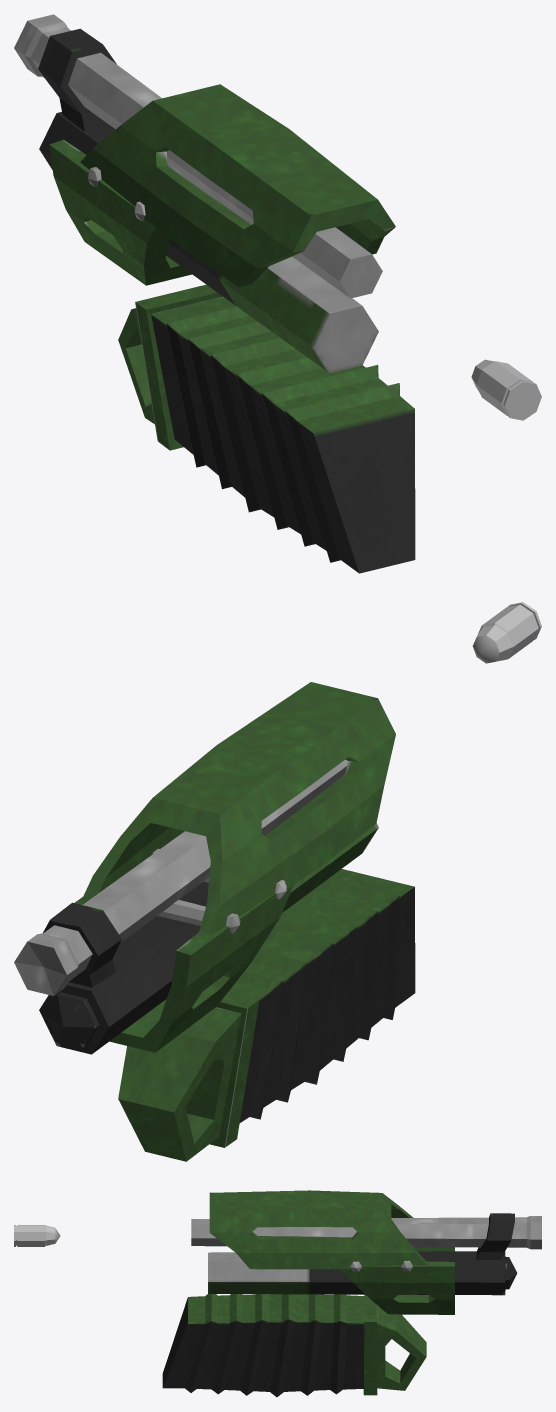
Rendered from BulletObjs.fbx.
The picture shows the model from 3 angles, top to bottom: view 1: azimuth 30°, elevation 25°; view 2: azimuth 150°, elevation 25°; view 3: azimuth 270°, elevation 25°; orthographic projection. The views are drawn at different scales.
Visible parts, largest first — view 1: BulletLauf, BulletMag, Bullet; view 2: BulletLauf, BulletMag, Bullet; view 3: BulletLauf, BulletMag, Bullet.
Boxes of the visible parts, left/top/right/bottom form: BulletLauf: left=14, top=14, right=395, bottom=373; BulletMag: left=118, top=284, right=415, bottom=573; Bullet: left=471, top=359, right=541, bottom=420; BulletLauf: left=14, top=682, right=395, bottom=1054; BulletMag: left=118, top=869, right=415, bottom=1161; Bullet: left=472, top=602, right=541, bottom=663; BulletLauf: left=191, top=1190, right=541, bottom=1314; BulletMag: left=162, top=1294, right=426, bottom=1397; Bullet: left=14, top=1225, right=60, bottom=1246.
Size of the model in its own units: 0.1277 by 0.277 by 0.7039.
